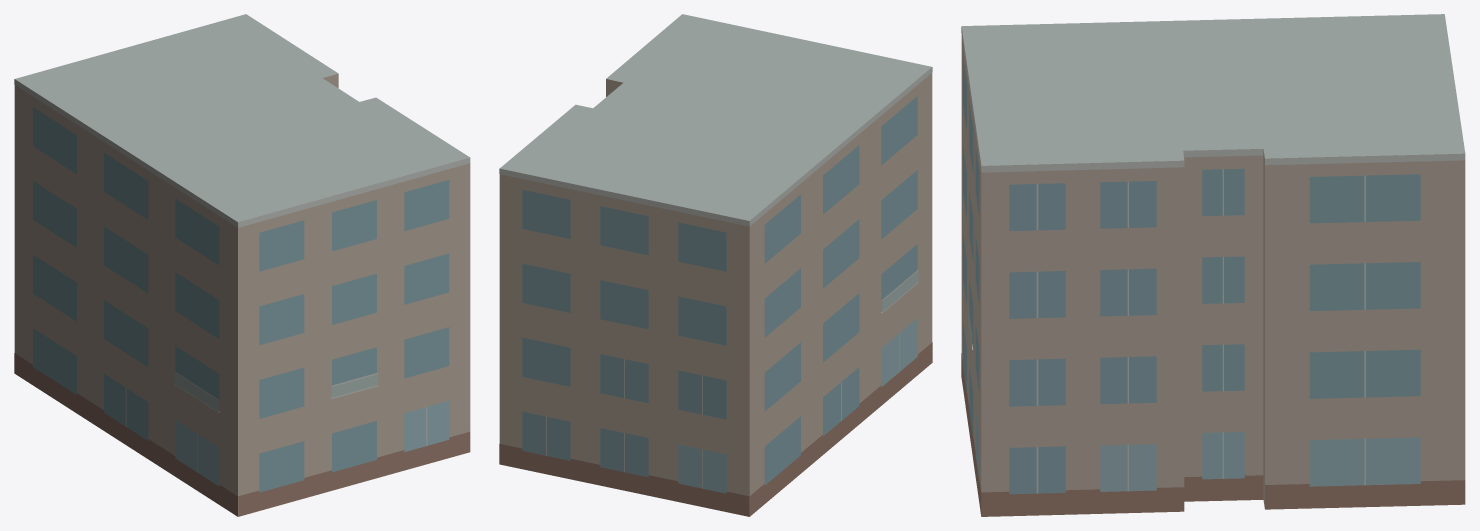
Rendered from survey-upis-32727568.glb.
3 renders of one model, left to right at view 1: azimuth 30°, elevation 25°; view 2: azimuth 150°, elevation 25°; view 3: azimuth 270°, elevation 25°, orthographic. The views are drawn at different scales.
Visible parts, largest first — view 1: survey-upis-32727568.tmp; view 2: survey-upis-32727568.tmp; view 3: survey-upis-32727568.tmp.
Part boxes in pixels (x1,y1,x2,y2): survey-upis-32727568.tmp: (14,14,470,516); survey-upis-32727568.tmp: (499,14,932,516); survey-upis-32727568.tmp: (961,14,1465,516).
Size of the model in its own units: 11.99 by 12.9 by 16.8.
